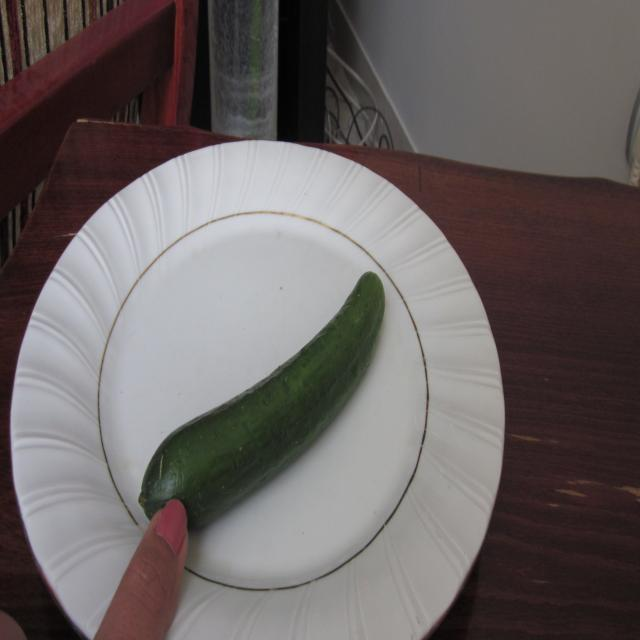Cucumber: (132, 267, 388, 516)
Finger: (126, 494, 192, 634)
